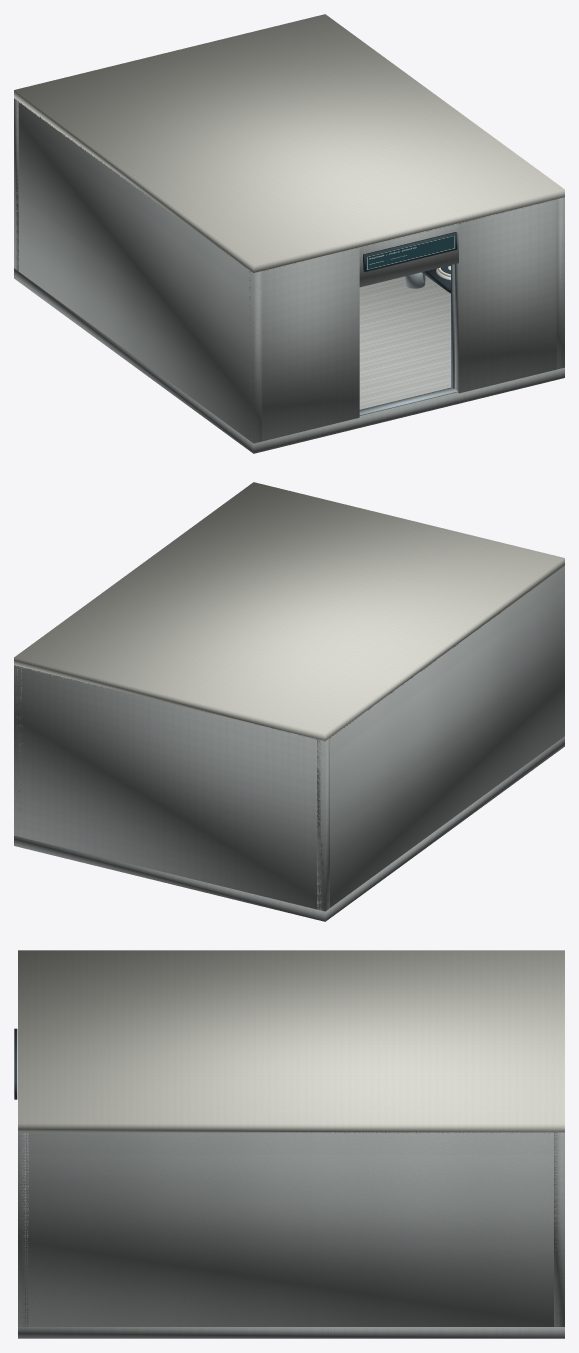
3 views of the same model, one above another, from view 1: azimuth 30°, elevation 25°; view 2: azimuth 150°, elevation 25°; view 3: azimuth 270°, elevation 25° (orthographic). The views are drawn at different scales.
Visible parts, largest first — view 1: VIS_CEILING_SLAB__plaster, VIS_SHELL_SIDE__concrete, VIS_SHELL_FRONT__concrete, VIS_FLOOR_TILE__floor_tile, VIS_FLOOR_SLAB__concrete, VIS_SHELL_FRONT_LINTEL__concrete, VIS_SIGN_MUNICIPAL__municipal_sign, VIS_SHELL_REAR__concrete, VIS_ENTRANCE_THRESHOLD__stainless, VIS_EXTERIOR_SIGN_BACK__slate; view 2: VIS_CEILING_SLAB__plaster, VIS_SHELL_REAR__concrete, VIS_SHELL_SIDE__concrete, VIS_FLOOR_SLAB__concrete; view 3: VIS_SHELL_SIDE__concrete, VIS_CEILING_SLAB__plaster, VIS_FLOOR_SLAB__concrete, VIS_SHELL_REAR__concrete, VIS_SHELL_FRONT__concrete.
Boxes of the visible parts, x1,y1,x2,y2 form: VIS_CEILING_SLAB__plaster: [14, 14, 564, 272]; VIS_SHELL_SIDE__concrete: [14, 101, 564, 443]; VIS_SHELL_FRONT__concrete: [249, 197, 564, 443]; VIS_FLOOR_TILE__floor_tile: [359, 275, 450, 409]; VIS_FLOOR_SLAB__concrete: [14, 268, 564, 453]; VIS_SHELL_FRONT_LINTEL__concrete: [359, 223, 458, 287]; VIS_SIGN_MUNICIPAL__municipal_sign: [366, 235, 455, 270]; VIS_SHELL_REAR__concrete: [14, 98, 18, 271]; VIS_ENTRANCE_THRESHOLD__stainless: [359, 387, 457, 415]; VIS_EXTERIOR_SIGN_BACK__slate: [363, 232, 457, 272]; VIS_CEILING_SLAB__plaster: [14, 482, 564, 741]; VIS_SHELL_REAR__concrete: [14, 665, 329, 911]; VIS_SHELL_SIDE__concrete: [14, 566, 564, 911]; VIS_FLOOR_SLAB__concrete: [14, 736, 564, 921]; VIS_SHELL_SIDE__concrete: [18, 1132, 564, 1326]; VIS_CEILING_SLAB__plaster: [18, 950, 564, 1133]; VIS_FLOOR_SLAB__concrete: [18, 1327, 564, 1338]; VIS_SHELL_REAR__concrete: [554, 1132, 564, 1326]; VIS_SHELL_FRONT__concrete: [18, 1132, 28, 1326].
Bounding box in the file's own units: 6 × 3.47 × 8.06.
Materials: 18 (18 with a texture image).
